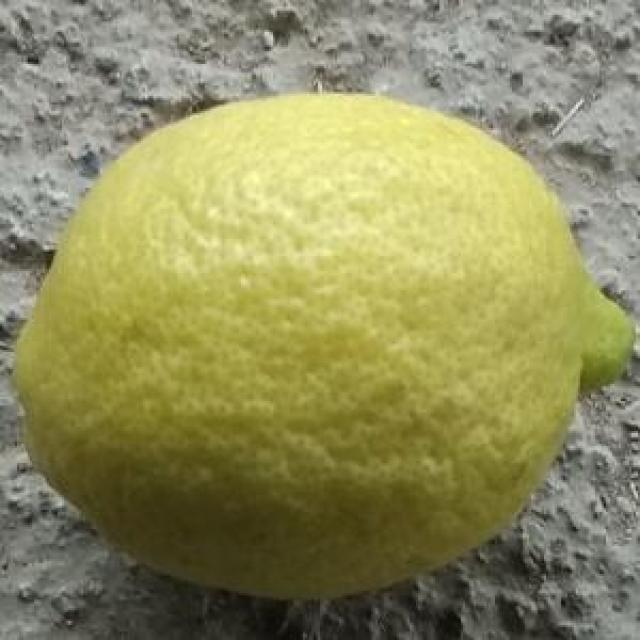lemon: (16, 95, 640, 612)
